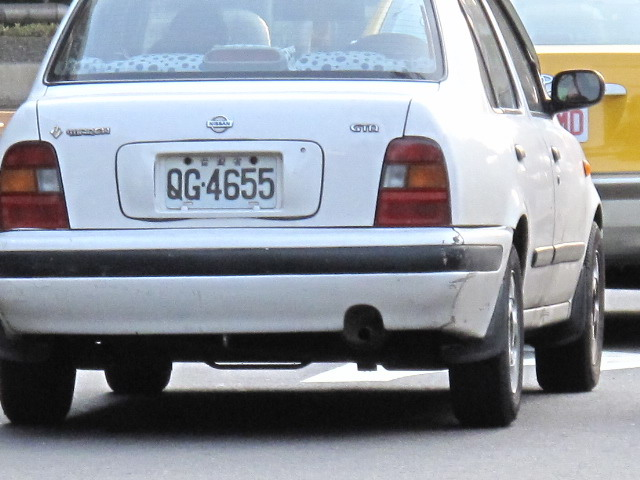plate: (164, 152, 277, 213)
